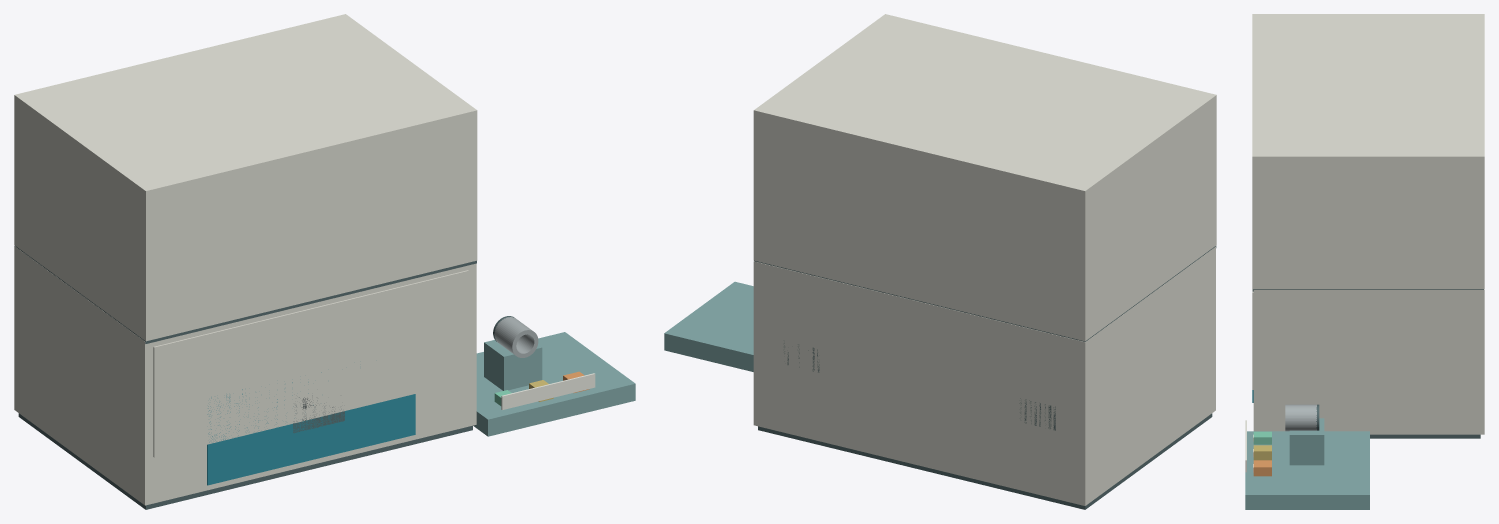
Rendered from mini-mite-display.glb.
3 renders of one model, left to right at view 1: azimuth 30°, elevation 25°; view 2: azimuth 150°, elevation 25°; view 3: azimuth 270°, elevation 25°, orthographic. The views are drawn at different scales.
Parts seen in each view (by area): view 1: Cover_406x279, Lower_pale_front, Exterior_base_406x279, Blue_controller_facade, Inspection_display_base, Bottom_trim, Gauge_upright, Gauge_facing_plate, Casing_mid_seam, Blind_gauge_rim; view 2: Cover_406x279, Exterior_base_406x279, Inspection_display_base, Bottom_trim, Casing_mid_seam; view 3: Cover_406x279, Exterior_base_406x279, Inspection_display_base, Gauge_upright, Blind_gauge_rim, Bottom_trim, Carrier_large, Carrier_touch.
Part boxes in pixels (left/top/right/bottom): Cover_406x279: left=14, top=14, right=477, bottom=341; Lower_pale_front: left=153, top=270, right=468, bottom=457; Exterior_base_406x279: left=14, top=246, right=476, bottom=505; Blue_controller_facade: left=207, top=372, right=415, bottom=485; Inspection_display_base: left=473, top=332, right=635, bottom=436; Bottom_trim: left=18, top=413, right=472, bottom=509; Gauge_upright: left=484, top=340, right=542, bottom=390; Gauge_facing_plate: left=501, top=373, right=595, bottom=409; Casing_mid_seam: left=15, top=246, right=476, bottom=343; Blind_gauge_rim: left=494, top=317, right=538, bottom=357; Cover_406x279: left=753, top=14, right=1216, bottom=341; Exterior_base_406x279: left=753, top=246, right=1215, bottom=505; Inspection_display_base: left=664, top=281, right=753, bottom=371; Bottom_trim: left=758, top=413, right=1212, bottom=509; Casing_mid_seam: left=754, top=246, right=1216, bottom=341; Cover_406x279: left=1252, top=14, right=1484, bottom=289; Exterior_base_406x279: left=1253, top=289, right=1484, bottom=434; Inspection_display_base: left=1245, top=431, right=1369, bottom=509; Gauge_upright: left=1289, top=418, right=1324, bottom=465; Blind_gauge_rim: left=1285, top=404, right=1316, bottom=431; Bottom_trim: left=1370, top=434, right=1480, bottom=438; Carrier_large: left=1253, top=460, right=1271, bottom=476; Carrier_touch: left=1253, top=445, right=1271, bottom=460.
Size of the model in its own units: 0.5957 by 0.381 by 0.2877.
